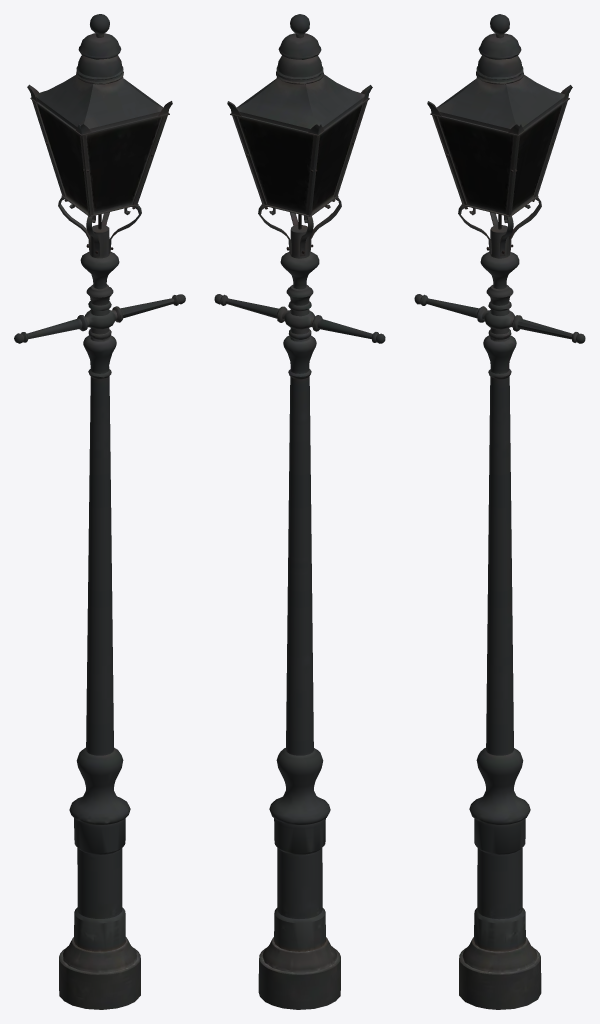
The model's file is street-lamp.glb.
3 renders of one model, left to right at view 1: azimuth 30°, elevation 25°; view 2: azimuth 150°, elevation 25°; view 3: azimuth 330°, elevation 25°, orthographic.
Parts seen in each view (by area): view 1: street-lamp; view 2: street-lamp; view 3: street-lamp.
Part boxes in pixels (x1,y1,x2,y2): street-lamp: (14, 14, 185, 1009); street-lamp: (214, 14, 385, 1009); street-lamp: (414, 14, 585, 1009).
Bounding box in the file's own units: 0.7031 × 3.87 × 0.3867.
3 materials, 3 textured.
